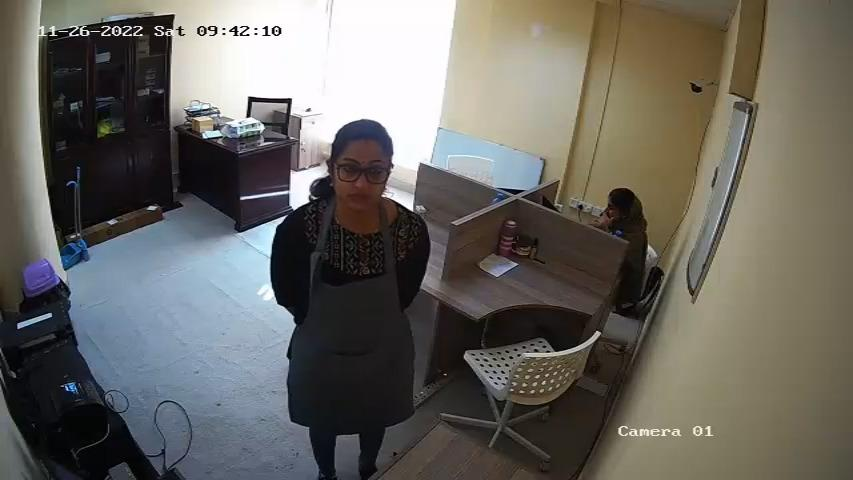apron: (300, 210, 405, 423)
